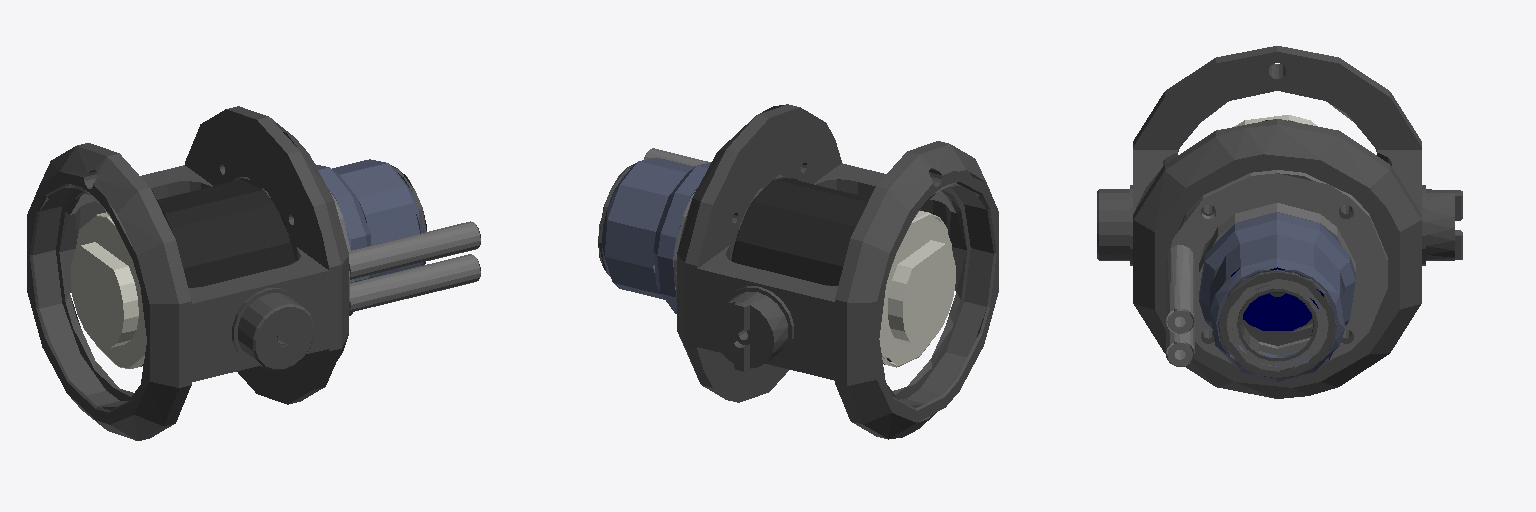
The picture shows the model from 3 angles: view 1: azimuth 30°, elevation 25°; view 2: azimuth 150°, elevation 25°; view 3: azimuth 270°, elevation 25°; orthographic projection.
Bounding box in the file's own units: 0.0541 × 0.042 × 0.0507.
Materials: 1 (1 with a texture image).